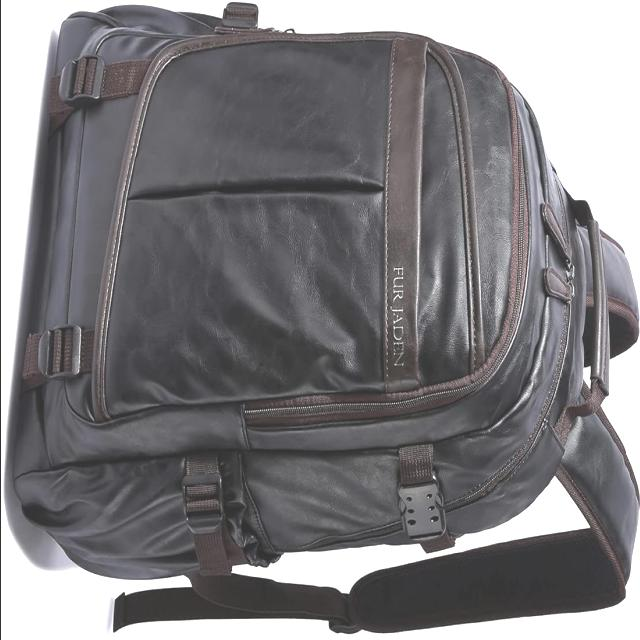backpack: (13, 3, 640, 636)
